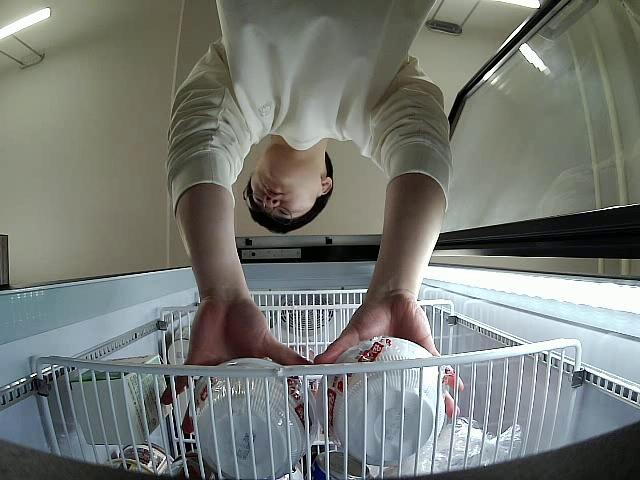00_hand: (160, 295, 313, 439), (313, 297, 463, 421)
09_yukGaeJang: (320, 336, 440, 465), (191, 360, 313, 477)
